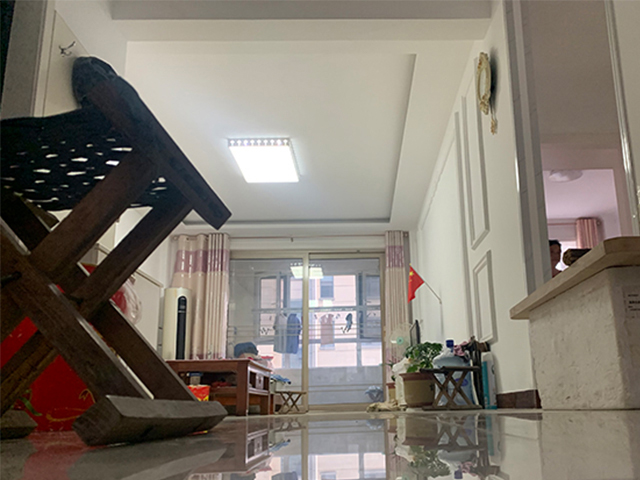curtain: (185, 235, 230, 359), (384, 227, 410, 375)
stool: (1, 54, 231, 447), (418, 365, 482, 411), (275, 390, 308, 416)
table: (168, 358, 275, 417)
